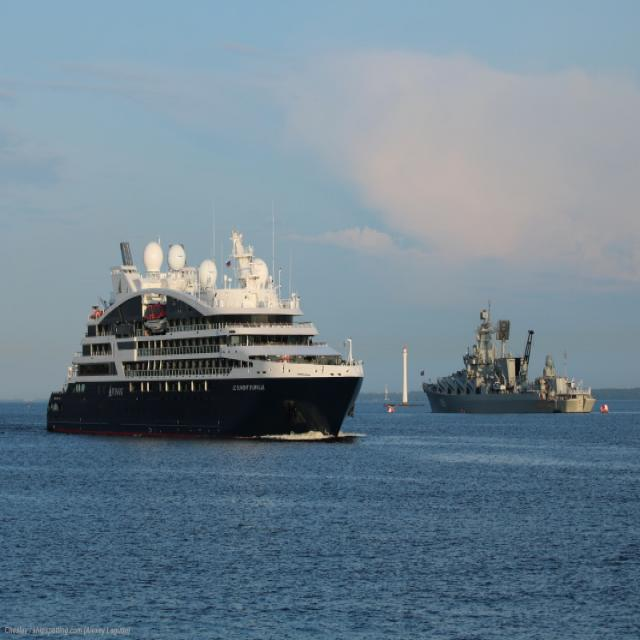cruises: (45, 221, 369, 455)
